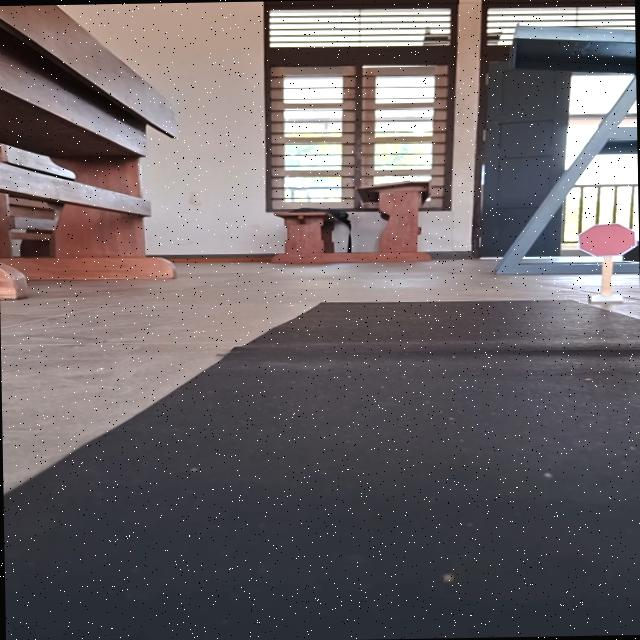Stop: (576, 222, 638, 258)
